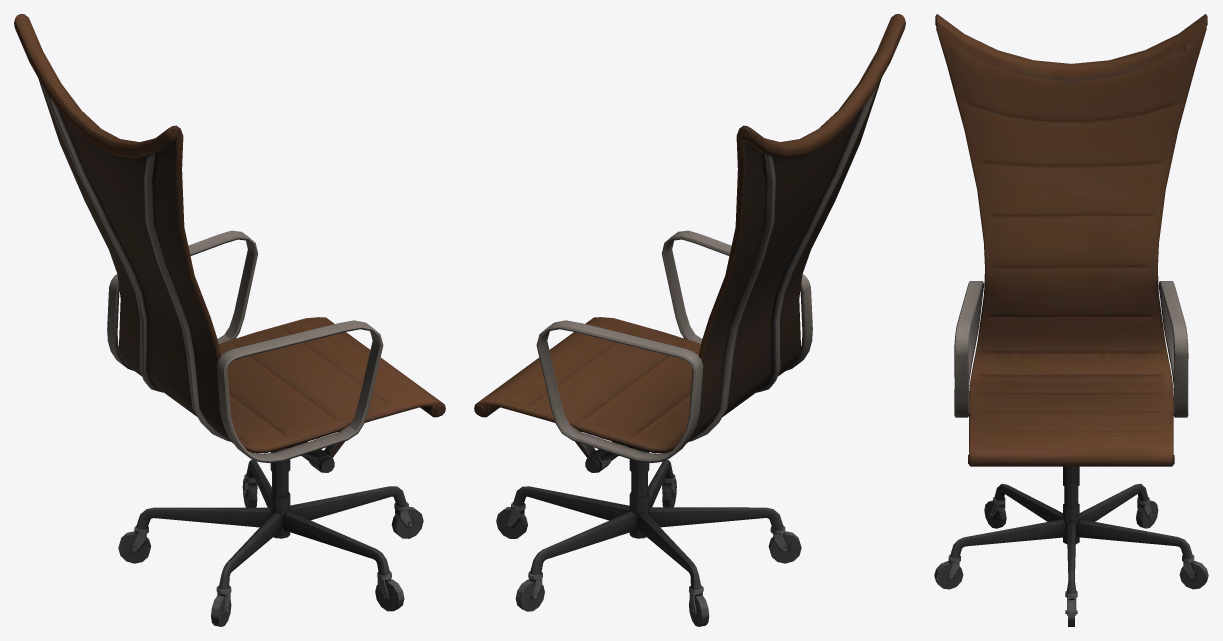
3 renders of one model, left to right at view 1: azimuth 30°, elevation 25°; view 2: azimuth 150°, elevation 25°; view 3: azimuth 270°, elevation 25°, orthographic. The views are drawn at different scales.
Parts seen in each view (by area): view 1: body0_model0_lod0_mesh0; view 2: body0_model0_lod0_mesh0; view 3: body0_model0_lod0_mesh0.
Part boxes in pixels (x1,y1,x2,y2): body0_model0_lod0_mesh0: (14,14,445,626); body0_model0_lod0_mesh0: (474,14,905,626); body0_model0_lod0_mesh0: (934,14,1208,626).
Bounding box in the file's own units: 42.97 × 66.96 × 34.88.
Materials: 1 (1 with a texture image).
